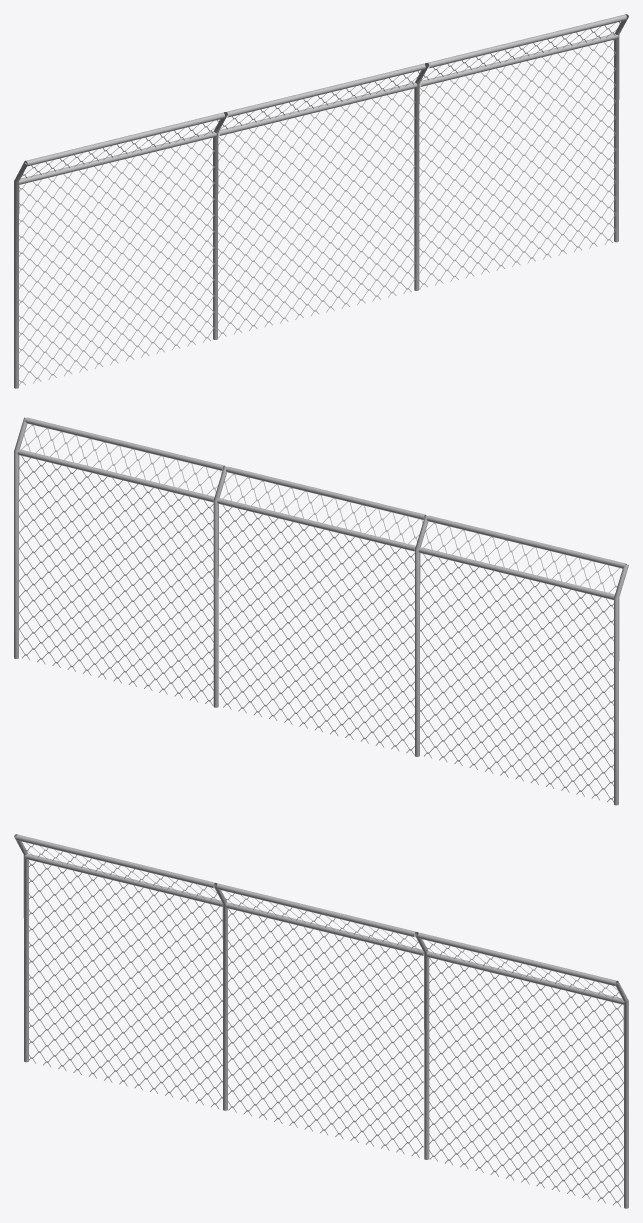
The model's file is fence1.glb.
3 renders of one model, top to bottom at view 1: azimuth 30°, elevation 25°; view 2: azimuth 150°, elevation 25°; view 3: azimuth 330°, elevation 25°, orthographic.
Visible parts, largest first — view 1: wire fence, wire fence.001, wire fence.002; view 2: wire fence, wire fence.001, wire fence.002; view 3: wire fence, wire fence.001, wire fence.002.
Part boxes in pixels (box(x1,y1,x2,y2)): wire fence: box(414, 14, 628, 290); wire fence.001: box(14, 112, 227, 388); wire fence.002: box(218, 63, 425, 338); wire fence: box(14, 417, 226, 707); wire fence.001: box(415, 515, 628, 805); wire fence.002: box(217, 466, 426, 755); wire fence: box(414, 932, 628, 1208); wire fence.001: box(14, 834, 227, 1110); wire fence.002: box(216, 883, 423, 1157).
Bounding box in the file's own units: 13.6 × 5.02 × 0.4847.
Materials: 1 (1 with a texture image).
